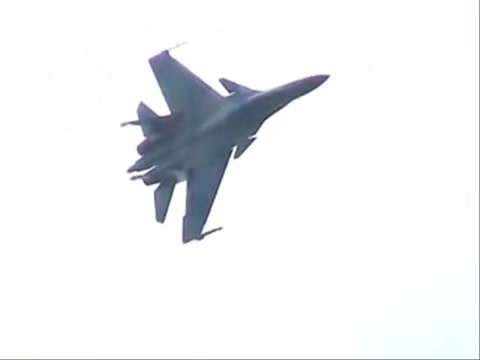aeroplane: (120, 42, 332, 245)
